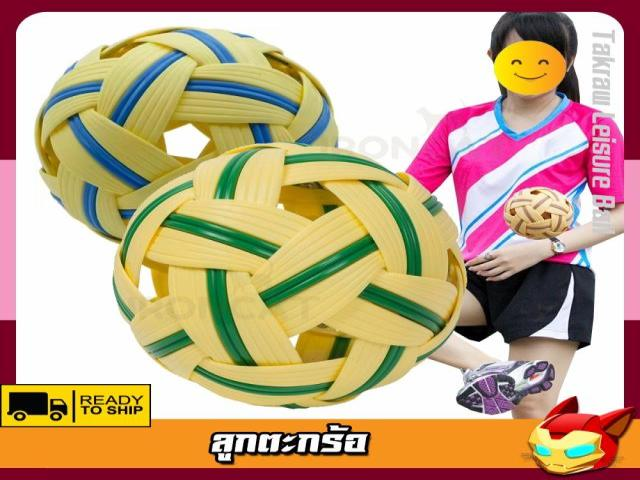round ball: (114, 142, 465, 407), (35, 27, 338, 239), (504, 187, 572, 239)
